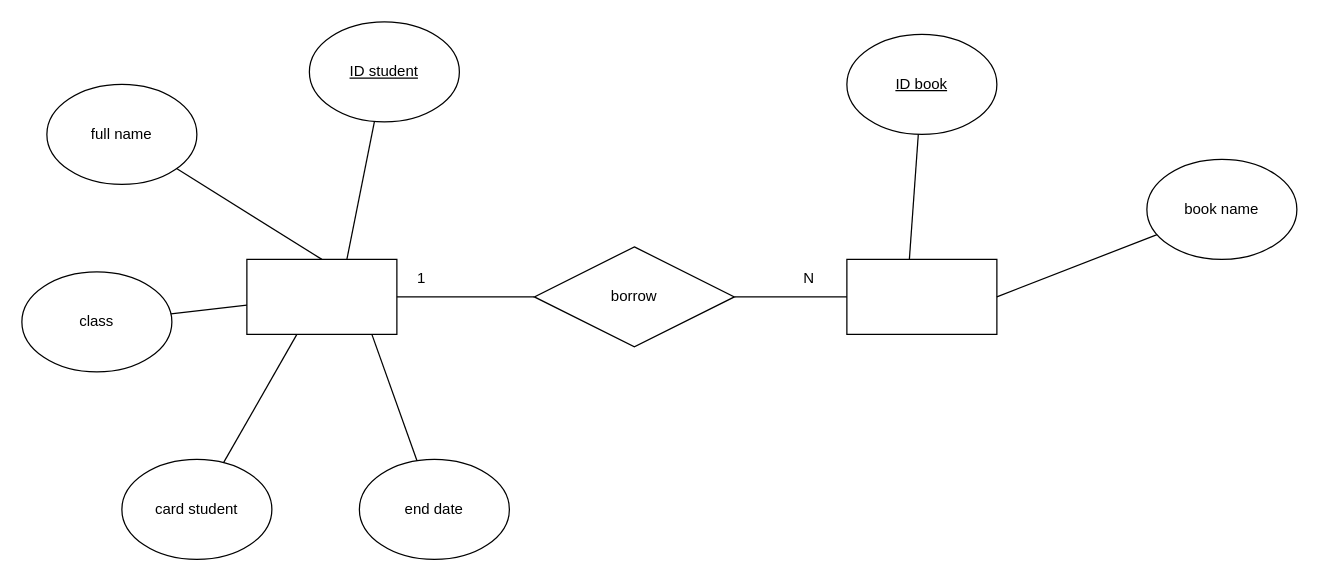
Some shapes in this 1319 by 581 pixel diagram are drawn without their labels. The box of each missing label's shape, as (x1, y1, x2, y2) in pixels:
BOOKS: (846, 258, 997, 334)
STUDENTS: (246, 258, 397, 334)
